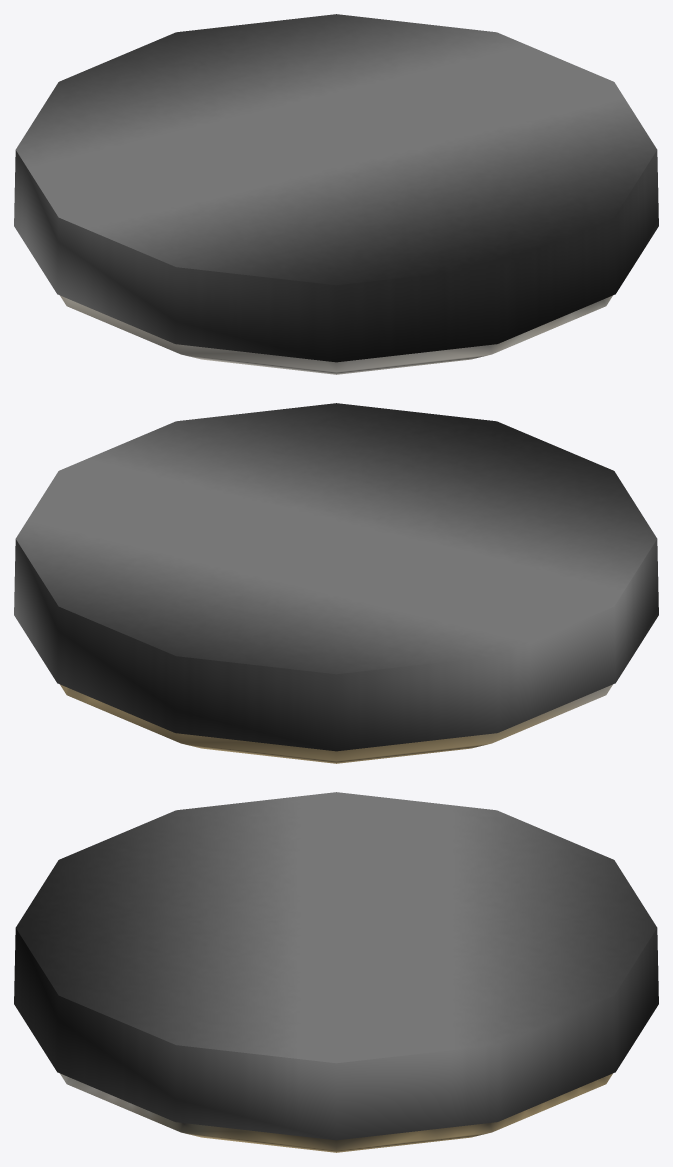
The model's file is Ceiling_Light.FBX.
3 views of the same model, one above another, from view 1: azimuth 30°, elevation 25°; view 2: azimuth 150°, elevation 25°; view 3: azimuth 270°, elevation 25° (orthographic).
Parts seen in each view (by area): view 1: Ceiling_Light; view 2: Ceiling_Light; view 3: Ceiling_Light.
Part boxes in pixels (x1,y1,x2,y2): Ceiling_Light: [14, 14, 658, 374]; Ceiling_Light: [14, 403, 658, 763]; Ceiling_Light: [14, 792, 658, 1152].
Bounding box in the file's own units: 121 × 33.19 × 121.
